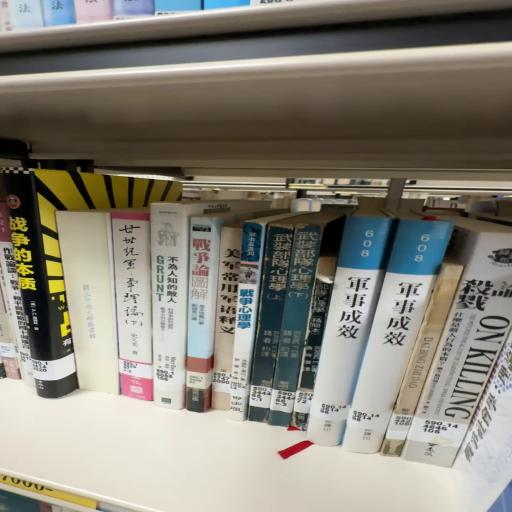backward: (58, 213, 123, 403)
book: (1, 174, 78, 403), (112, 211, 154, 413), (149, 209, 189, 414)
